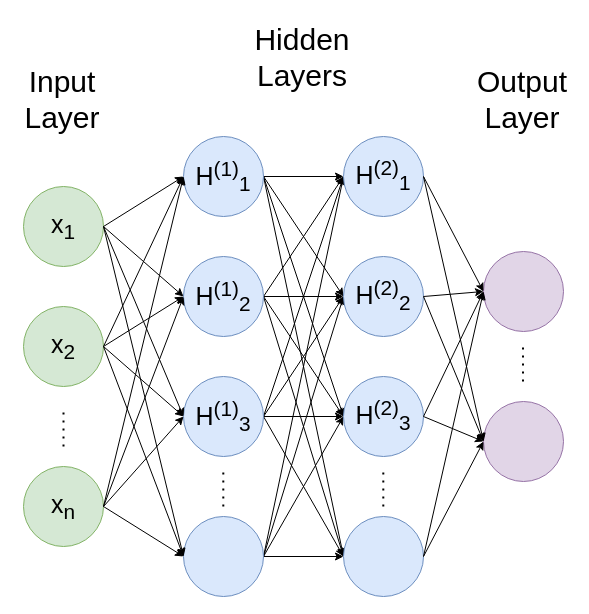
Some shapes in this 589 by 614 pixel diagram are drawn without their labels. Here are the shapes that lost their labels. From the top down, the centre of each, then its label:
the point at 523,291: y 1
the point at 523,441: y m
the point at 223,556: H (1) a
the point at 383,556: H (2) b
